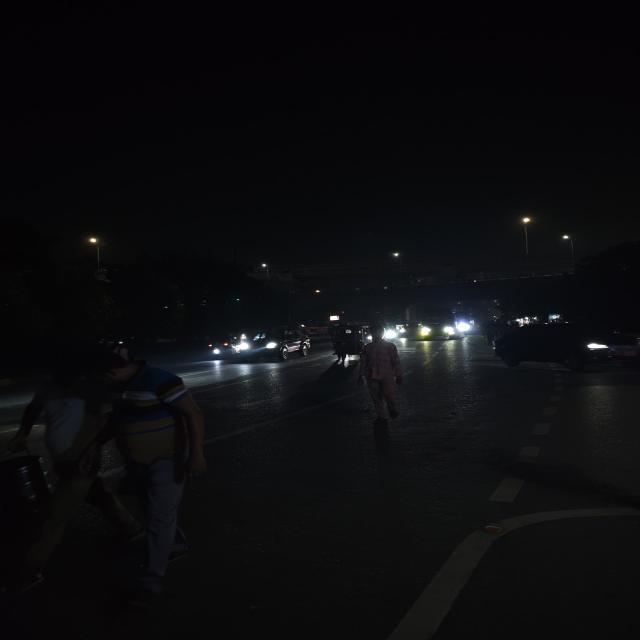bus: (419, 306, 457, 341)
car: (488, 318, 639, 375), (239, 329, 314, 361)
pedestrian: (0, 332, 215, 620), (356, 323, 407, 437)
